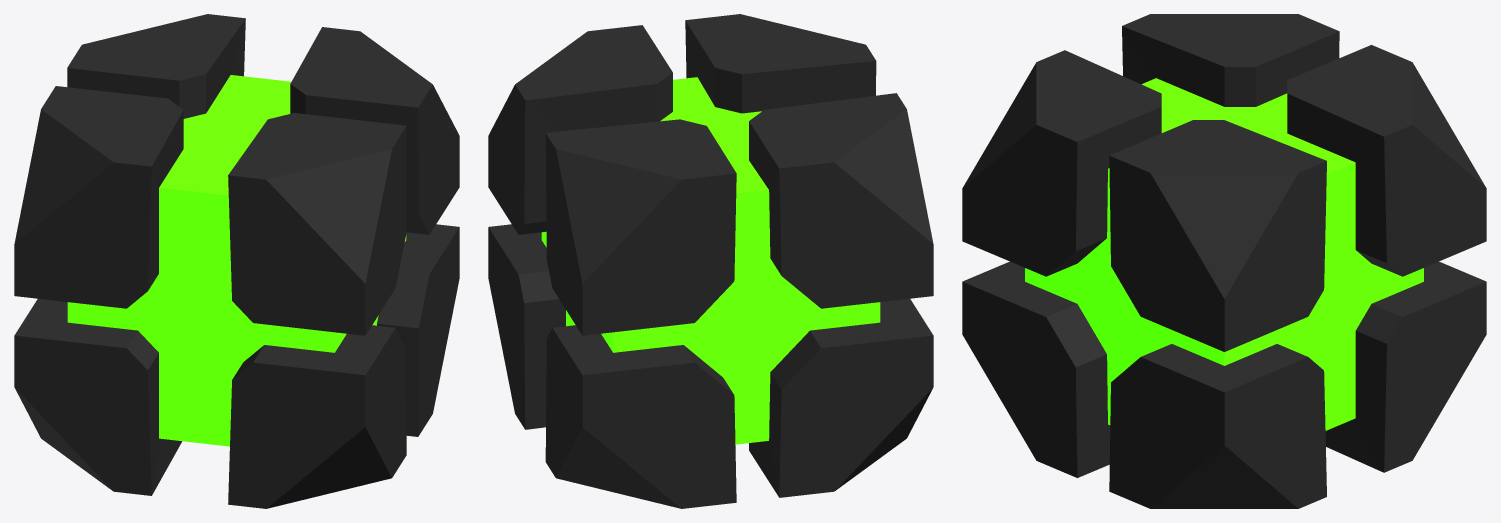
File: stack-geology-pack.glb
3 renders of one model, left to right at view 1: azimuth 30°, elevation 25°; view 2: azimuth 150°, elevation 25°; view 3: azimuth 270°, elevation 25°, orthographic. The views are drawn at different scales.
Parts seen in each view (by area): view 1: Cube.030; view 2: Cube.030; view 3: Cube.030.
Boxes of the visible parts, x1,y1,x2,y2 form: Cube.030: (14, 14, 459, 508); Cube.030: (488, 14, 933, 508); Cube.030: (962, 14, 1486, 508).
Bounding box in the file's own units: 2.5 × 1.76 × 2.5.
1 material, 1 textured.
